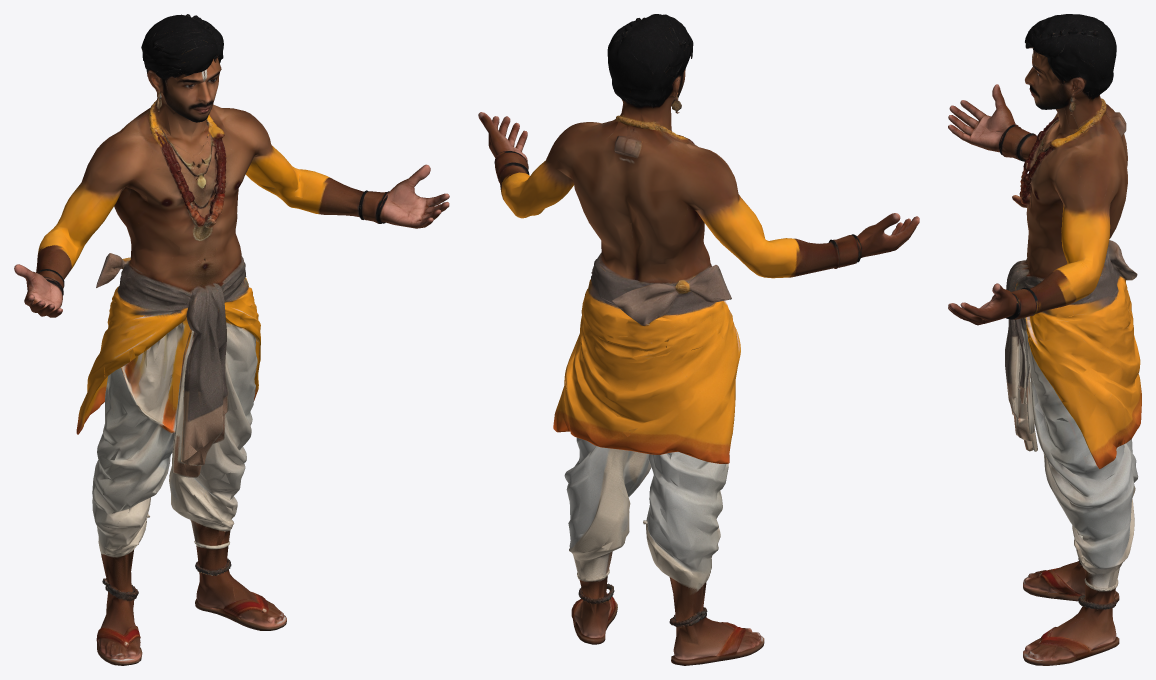
The model's file is prady-a-realistic-young-indian-man-in-hi-cmuyh89r-source-a1-glb.glb.
3 views of the same model, side by side, from view 1: azimuth 30°, elevation 25°; view 2: azimuth 150°, elevation 25°; view 3: azimuth 270°, elevation 25° (orthographic).
Visible parts, largest first — view 1: Mesh_0; view 2: Mesh_0; view 3: Mesh_0.
Boxes of the visible parts, left/top/right/bottom form: Mesh_0: left=14, top=14, right=449, bottom=665; Mesh_0: left=478, top=14, right=919, bottom=665; Mesh_0: left=948, top=14, right=1141, bottom=665.
Size of the model in its own units: 1.26 by 1.75 by 0.5029.
Materials: 1 (1 with a texture image).
